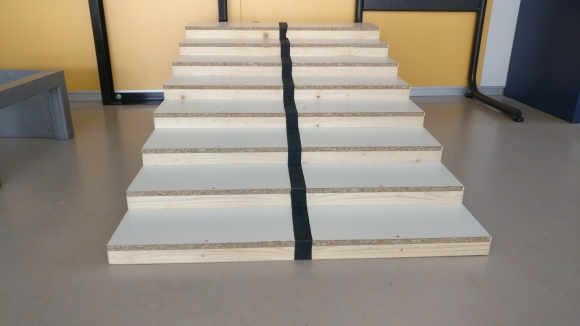stairs: (105, 20, 494, 267)
